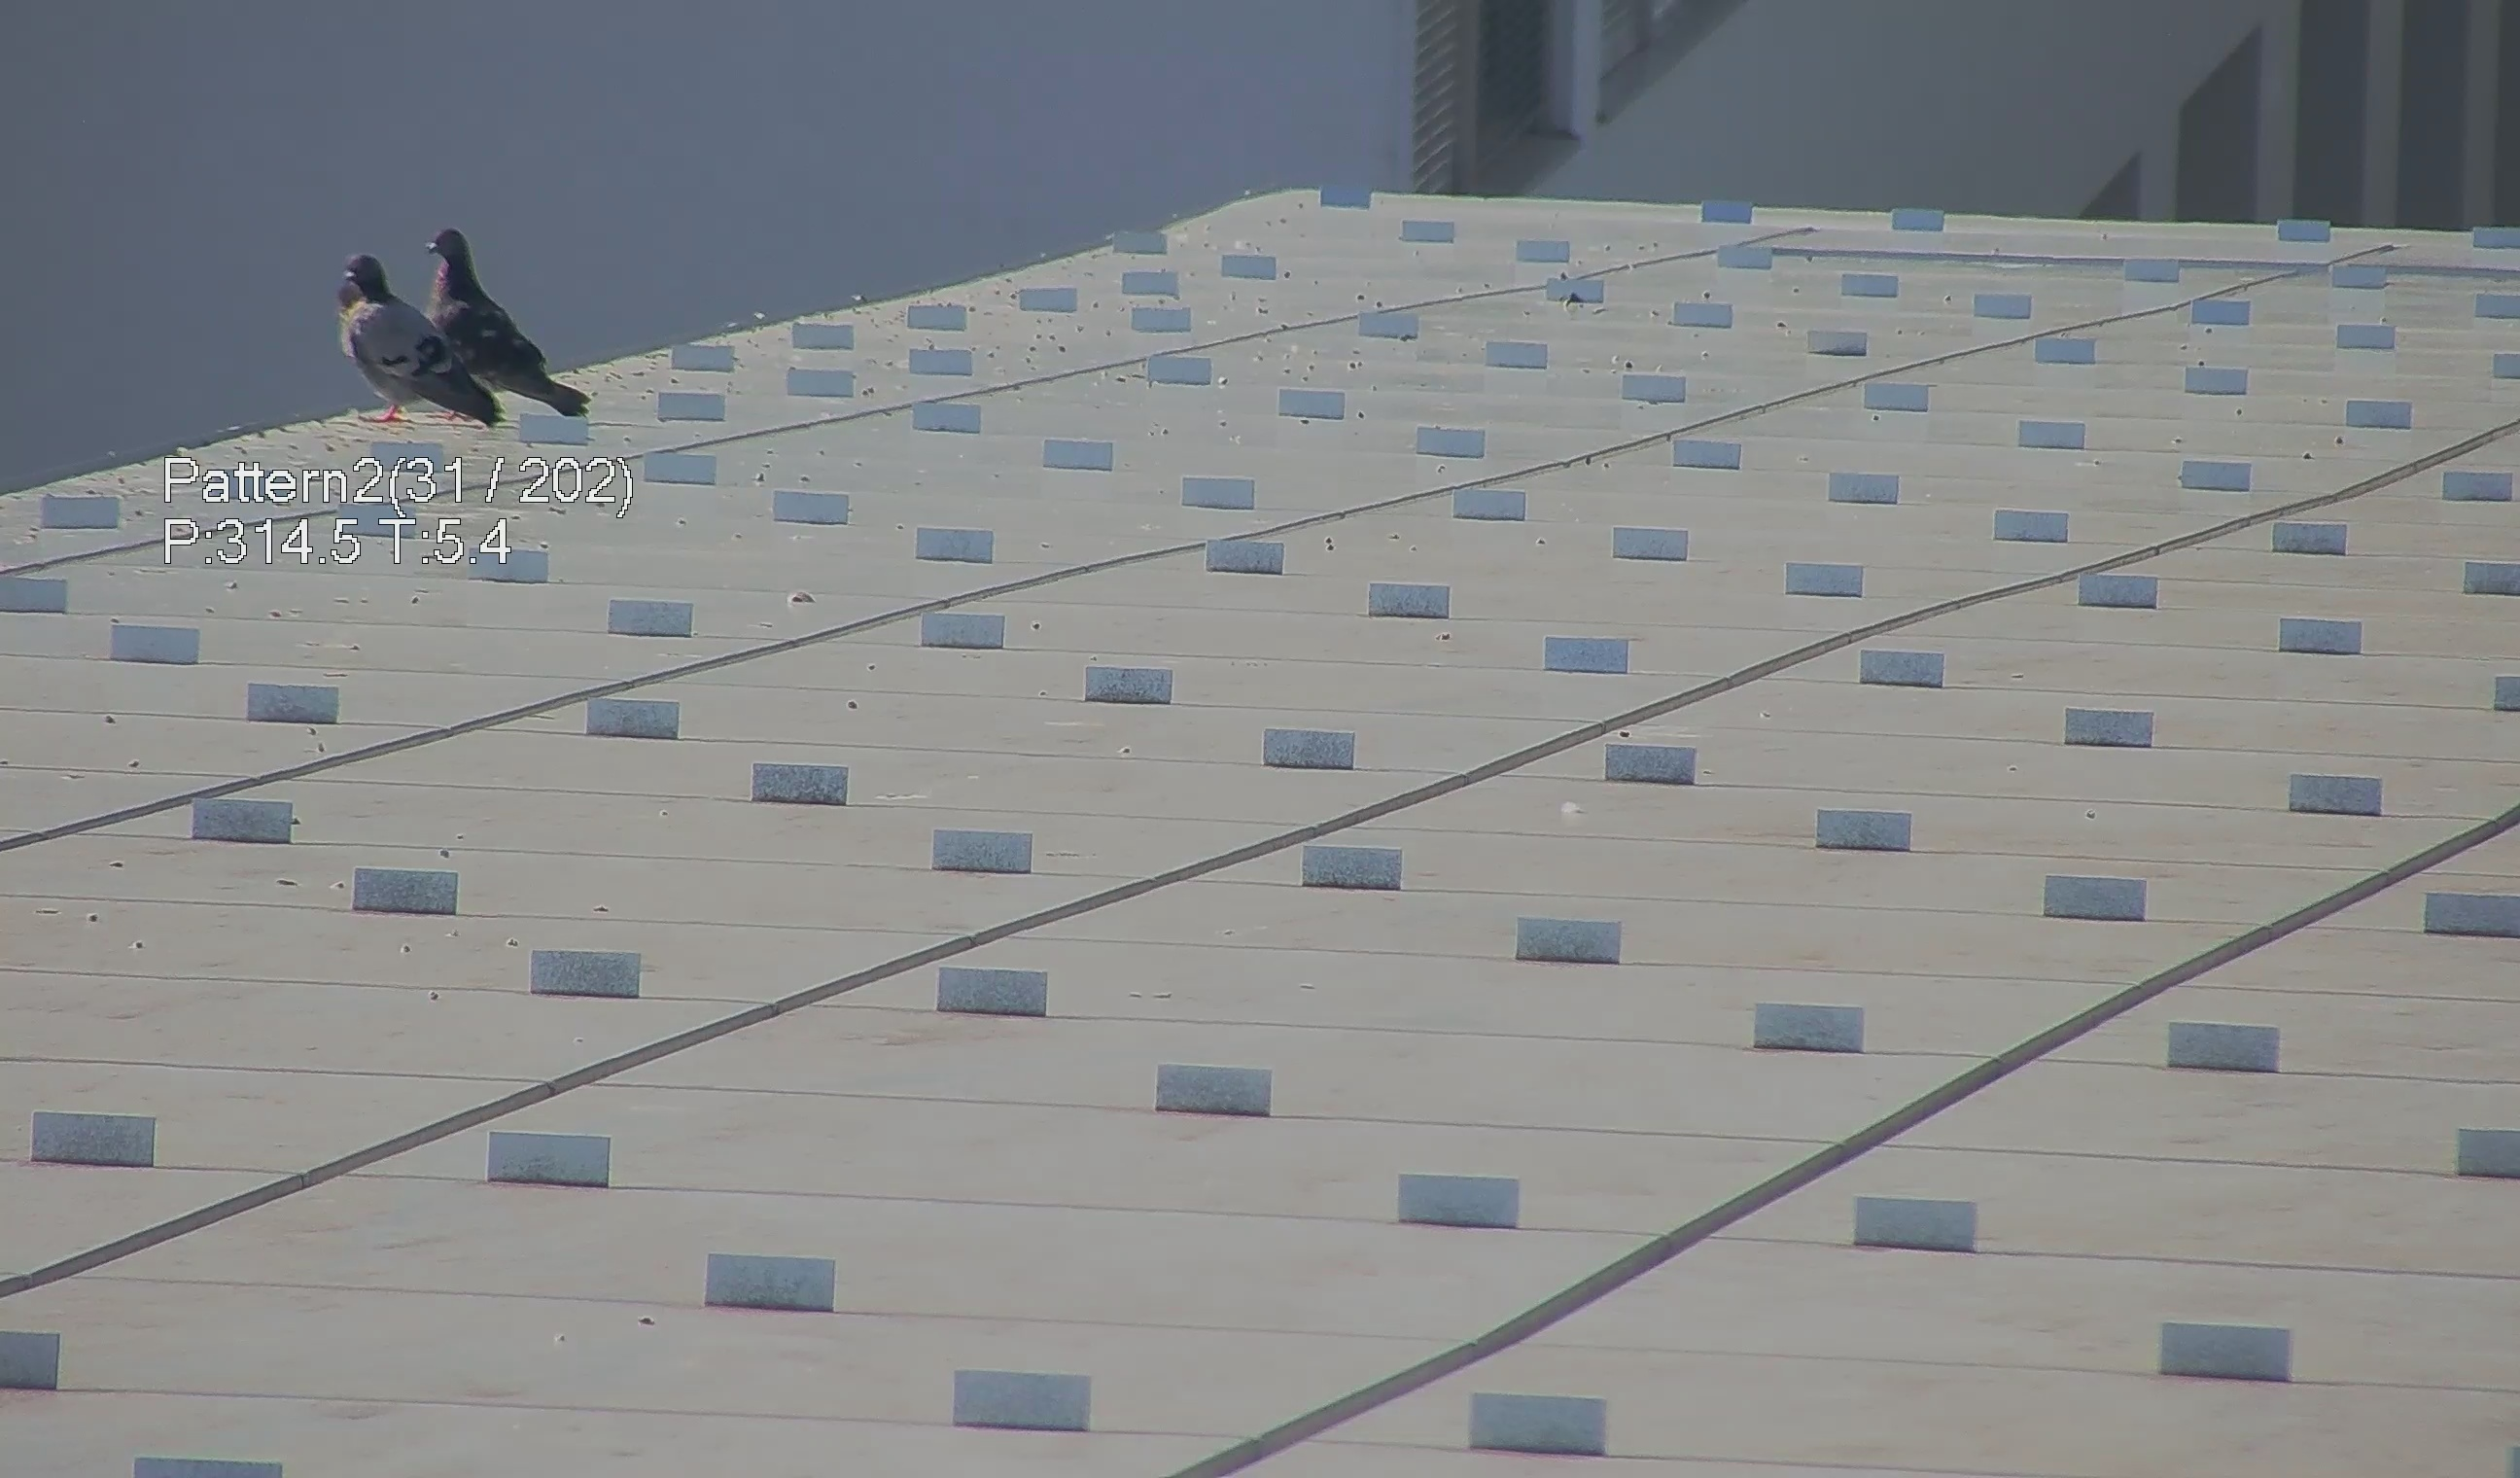Pigeon: (408, 222, 605, 438), (311, 236, 477, 426)
